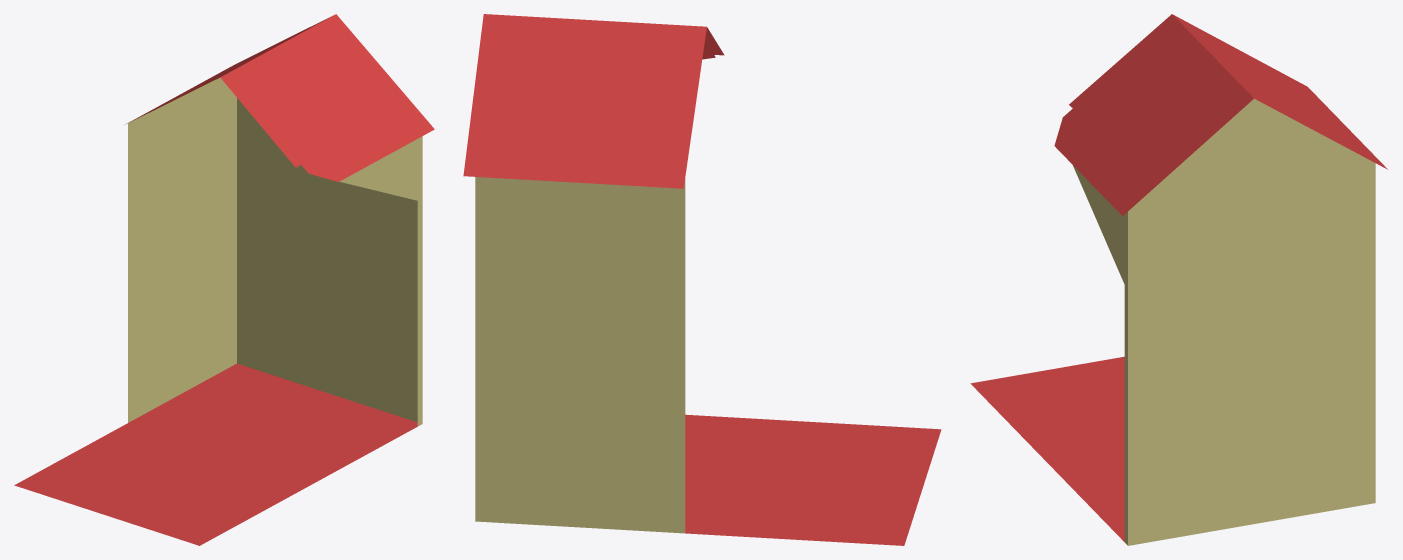
The picture shows the model from 3 angles, left to right: view 1: azimuth 30°, elevation 25°; view 2: azimuth 150°, elevation 25°; view 3: azimuth 270°, elevation 25°; orthographic projection. The views are drawn at different scales.
Bounding box in the file's own units: 12.43 × 10.42 × 11.82.
